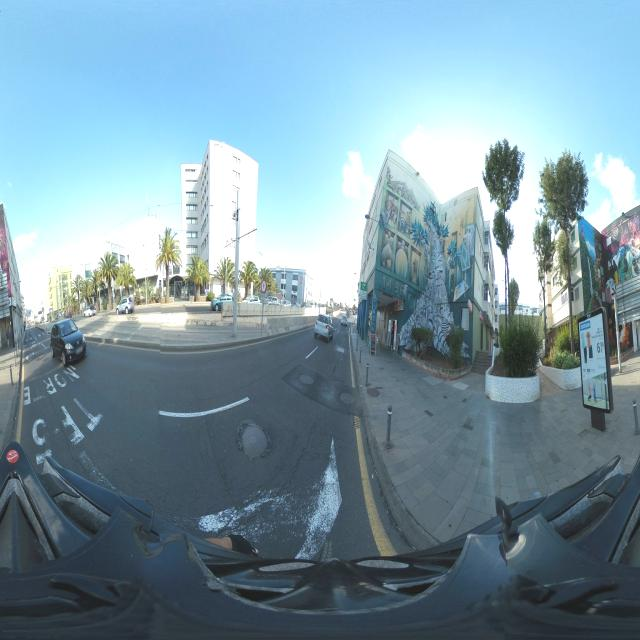car: (51, 318, 87, 365), (313, 314, 334, 342), (211, 294, 233, 313), (116, 295, 135, 315), (83, 304, 96, 318)
